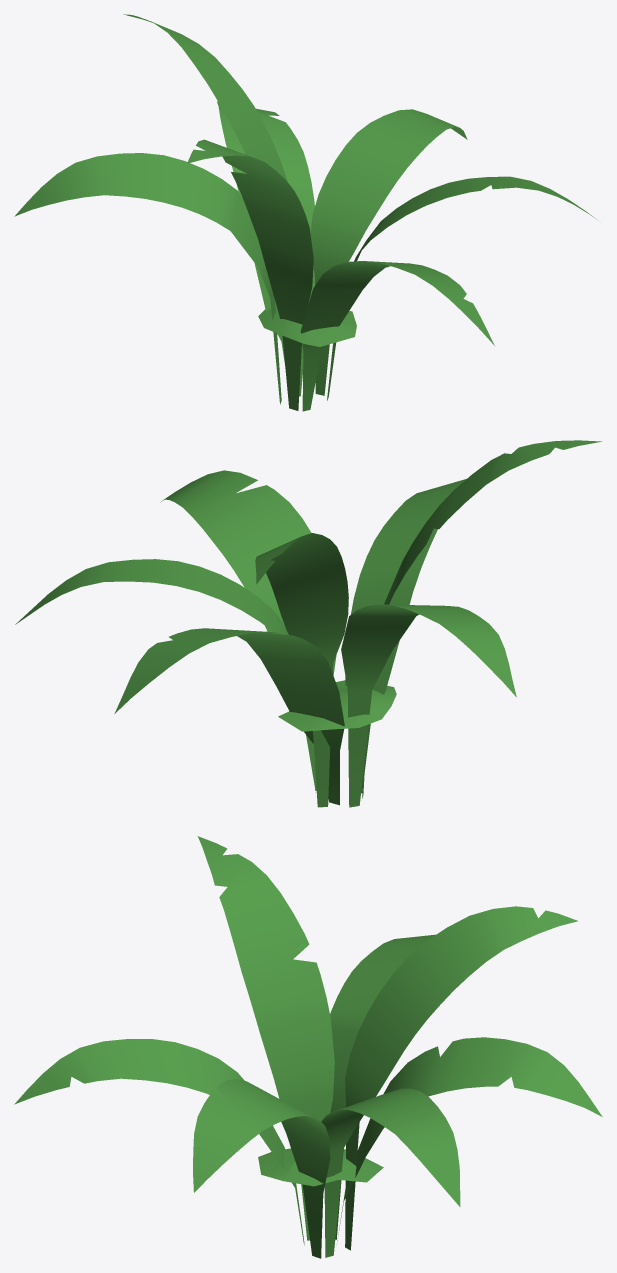
Rendered from plant_dracaena_B.fbx.
3 views of the same model, one above another, from view 1: azimuth 30°, elevation 25°; view 2: azimuth 150°, elevation 25°; view 3: azimuth 270°, elevation 25° (orthographic). The views are drawn at different scales.
Parts seen in each view (by area): view 1: plant_dracaena_B_leaf_E, plant_dracaena_B_leaf_H, plant_dracaena_B_leaf_A, plant_dracaena_B_leaf_C, plant_dracaena_B_leaf_B, plant_dracaena_B_leaf_D, plant_dracaena_B_leaf_F, plant_dracaena_B_bud; view 2: plant_dracaena_B_leaf_H, plant_dracaena_B_leaf_F, plant_dracaena_B_leaf_D, plant_dracaena_B_leaf_B, plant_dracaena_B_leaf_C, plant_dracaena_B_leaf_E, plant_dracaena_B_leaf_A, plant_dracaena_B_bud; view 3: plant_dracaena_B_leaf_A, plant_dracaena_B_leaf_B, plant_dracaena_B_leaf_F, plant_dracaena_B_leaf_D, plant_dracaena_B_leaf_C, plant_dracaena_B_leaf_E, plant_dracaena_B_leaf_H, plant_dracaena_B_bud.
Part boxes in pixels (x1,y1,x2,y2): plant_dracaena_B_leaf_E: (310, 109, 467, 395); plant_dracaena_B_leaf_H: (14, 153, 281, 404); plant_dracaena_B_leaf_A: (187, 139, 313, 410); plant_dracaena_B_leaf_C: (300, 261, 494, 411); plant_dracaena_B_leaf_B: (123, 14, 287, 181); plant_dracaena_B_leaf_D: (217, 101, 314, 396); plant_dracaena_B_leaf_F: (327, 176, 596, 400); plant_dracaena_B_bud: (258, 299, 356, 346); plant_dracaena_B_leaf_H: (341, 604, 516, 807); plant_dracaena_B_leaf_F: (160, 470, 336, 790); plant_dracaena_B_leaf_D: (114, 628, 344, 805); plant_dracaena_B_leaf_B: (255, 533, 348, 807); plant_dracaena_B_leaf_C: (345, 479, 466, 793); plant_dracaena_B_leaf_E: (15, 559, 315, 789); plant_dracaena_B_leaf_A: (362, 440, 601, 798); plant_dracaena_B_bud: (278, 680, 396, 731); plant_dracaena_B_leaf_A: (197, 836, 334, 1240); plant_dracaena_B_leaf_B: (345, 906, 578, 1250); plant_dracaena_B_leaf_F: (193, 1079, 330, 1258); plant_dracaena_B_leaf_D: (336, 1037, 602, 1244); plant_dracaena_B_leaf_C: (14, 1039, 304, 1245); plant_dracaena_B_leaf_E: (321, 1088, 460, 1257); plant_dracaena_B_leaf_H: (330, 934, 435, 1239); plant_dracaena_B_bud: (258, 1148, 383, 1186).
Bounding box in the file's own units: 106 × 72 × 118.
